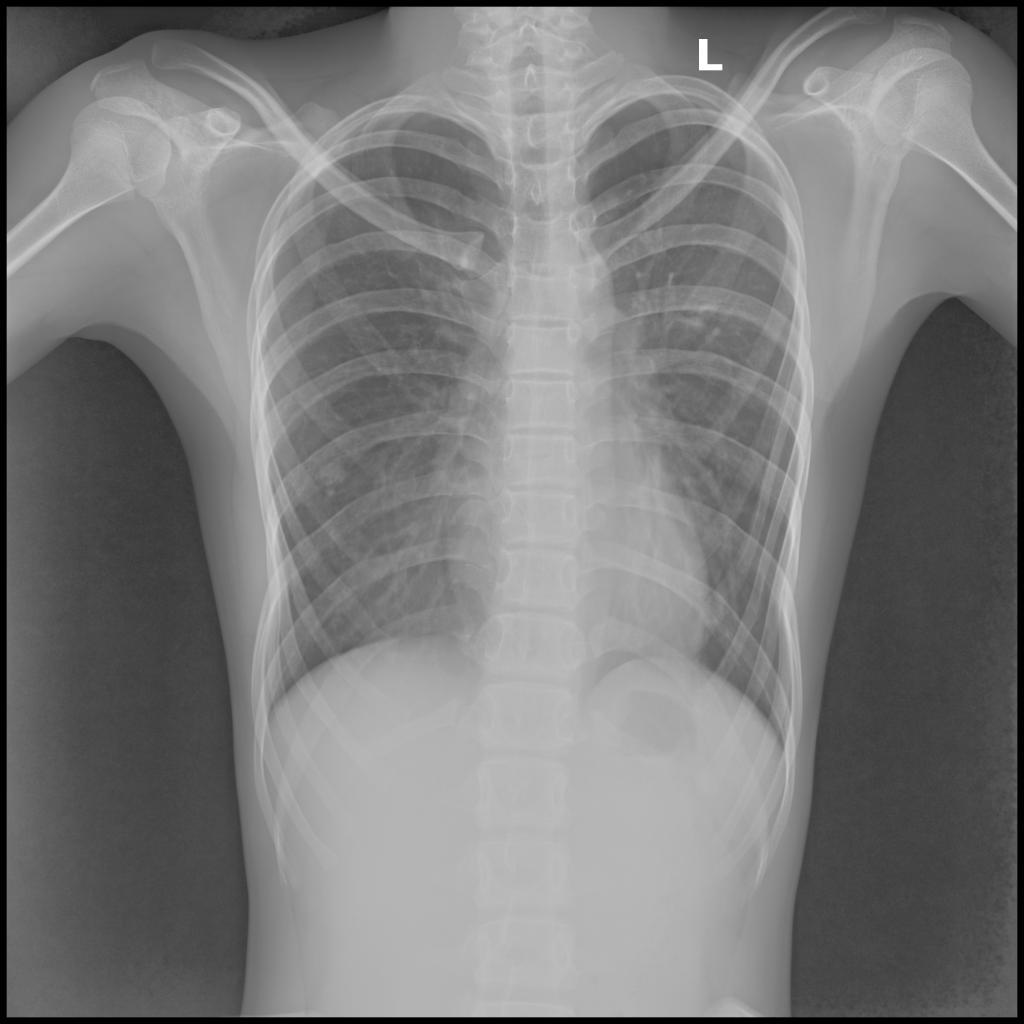Nodule: (315, 466, 351, 486)
